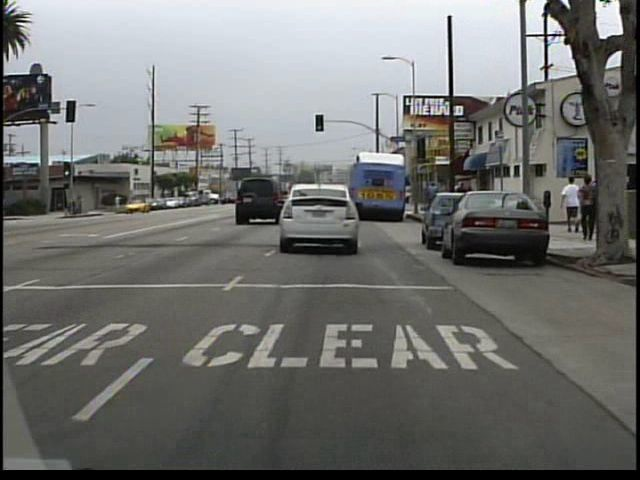person: (575, 174, 597, 241), (557, 172, 580, 235), (423, 180, 442, 221), (114, 194, 124, 213)
